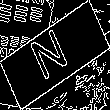N_SE: (31, 23, 79, 87)
